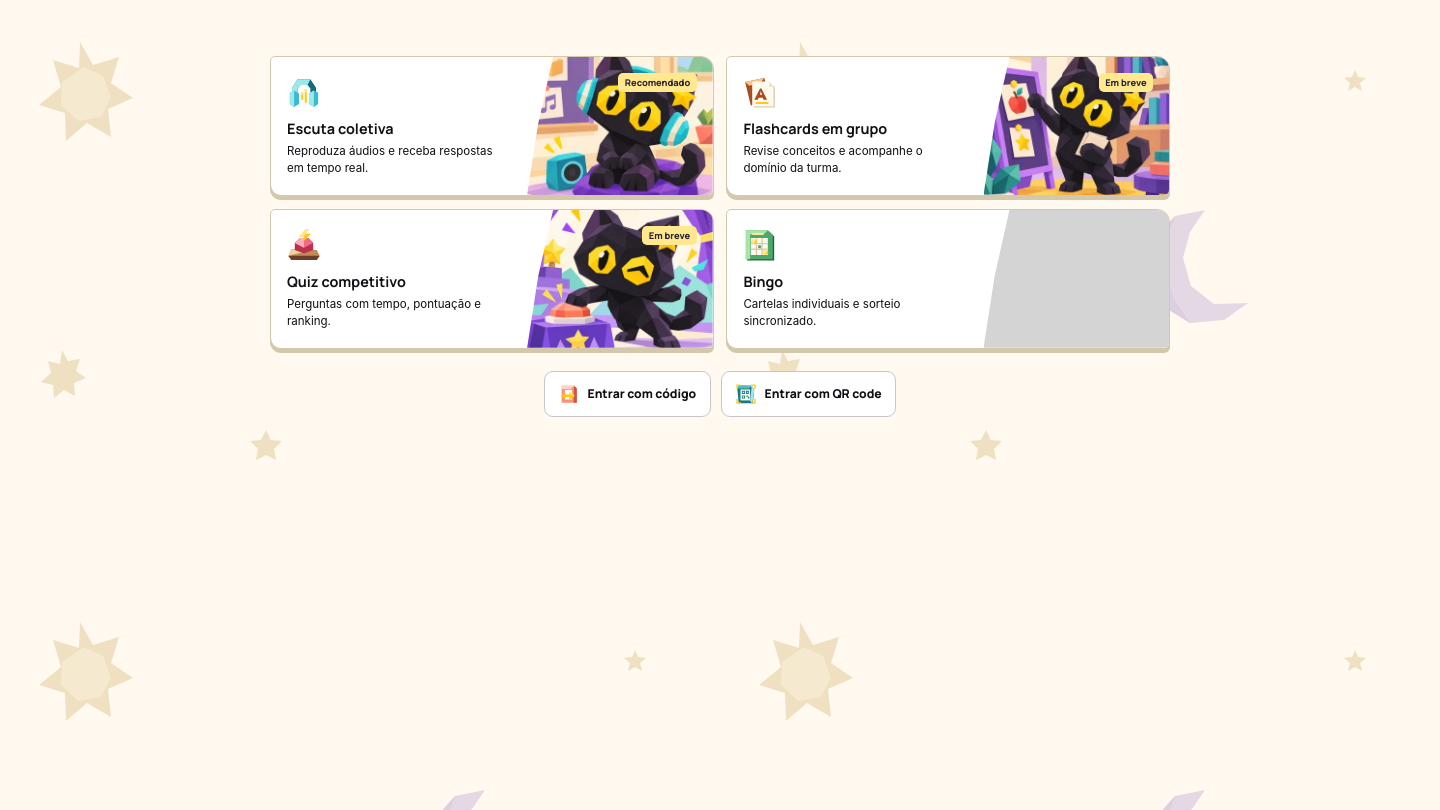
Test: apelido do convidado na sala › não aparece para quem entrou com conta
Click the button "Entrar com código" at [627, 394], box [544, 371, 711, 417]
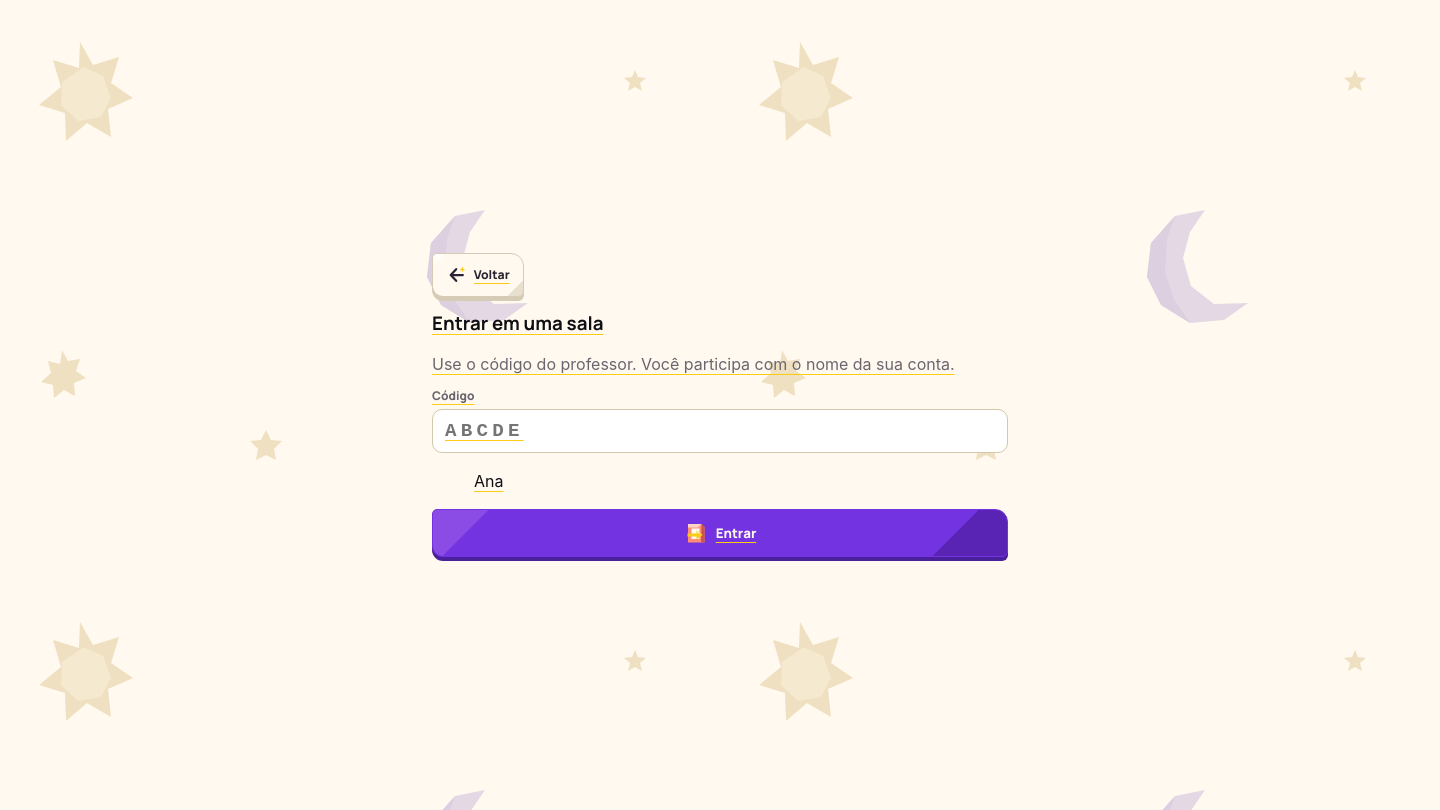
Expected: the text "Ana" is shown, [474, 471, 504, 491]
